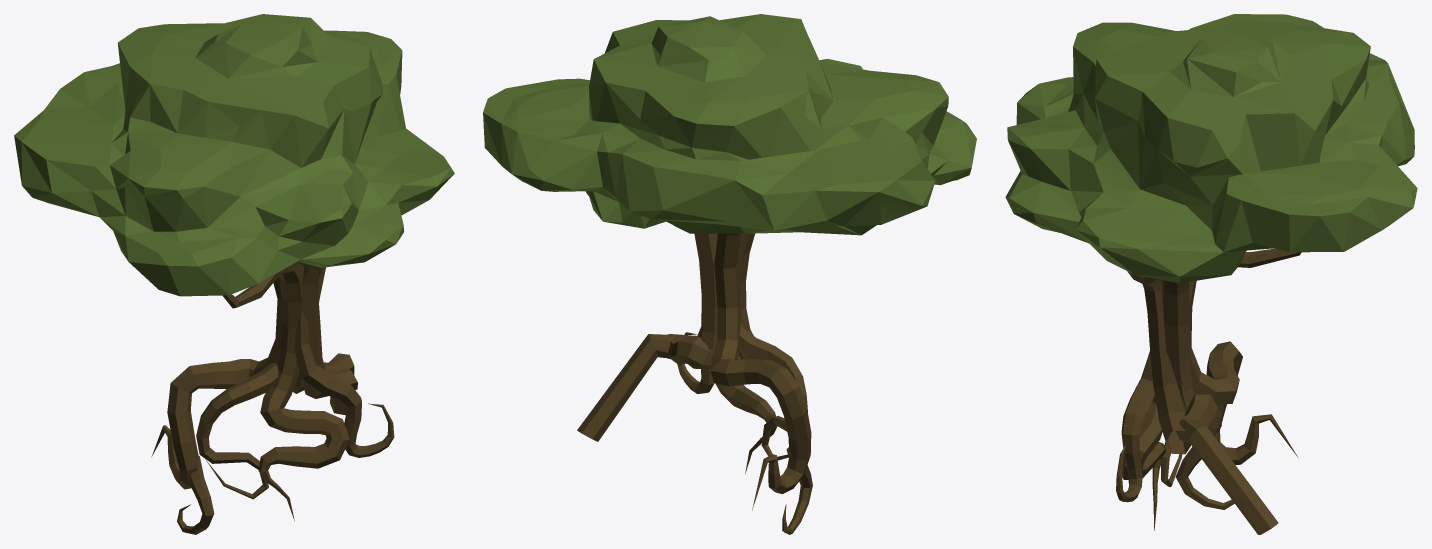
The model's file is DarkWoodDecorationMediumCornerBasedTree1.fbx.
3 views of the same model, side by side, from view 1: azimuth 30°, elevation 25°; view 2: azimuth 150°, elevation 25°; view 3: azimuth 270°, elevation 25° (orthographic). The views are drawn at different scales.
Visible parts, largest first — view 1: Canopy, TreeTrunk; view 2: Canopy, TreeTrunk; view 3: Canopy, TreeTrunk.
Boxes of the visible parts, x1,y1,x2,y2 form: Canopy: (14, 14, 454, 296); TreeTrunk: (151, 262, 394, 534); Canopy: (483, 14, 976, 235); TreeTrunk: (577, 191, 812, 534); Canopy: (1005, 14, 1417, 283); TreeTrunk: (1116, 248, 1301, 534).
Bounding box in the file's own units: 1677 × 1917 × 1420.
